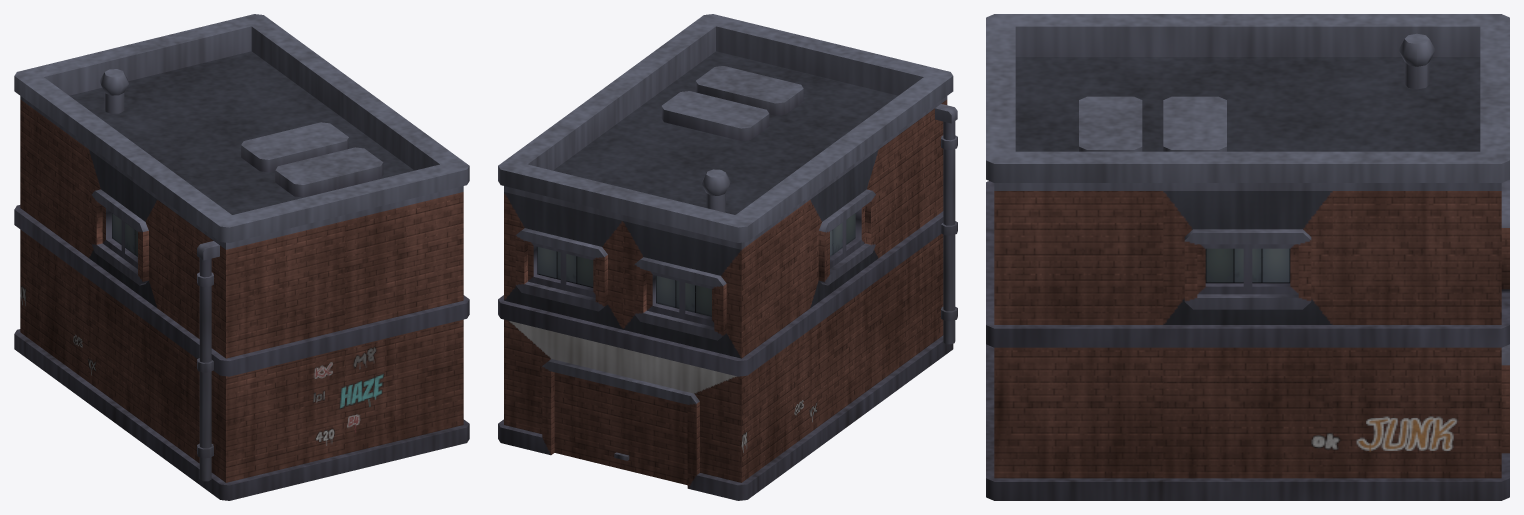
Rendered from building-o-brown-scuffed.glb.
3 renders of one model, left to right at view 1: azimuth 30°, elevation 25°; view 2: azimuth 150°, elevation 25°; view 3: azimuth 270°, elevation 25°, orthographic. The views are drawn at different scales.
Visible parts, largest first — view 1: building-o; view 2: building-o; view 3: building-o.
Boxes of the visible parts, x1,y1,x2,y2 form: building-o: [14, 14, 469, 500]; building-o: [498, 14, 957, 500]; building-o: [986, 14, 1509, 500].
Bounding box in the file's own units: 0.8836 × 0.918 × 1.24.
Materials: 1 (1 with a texture image).
